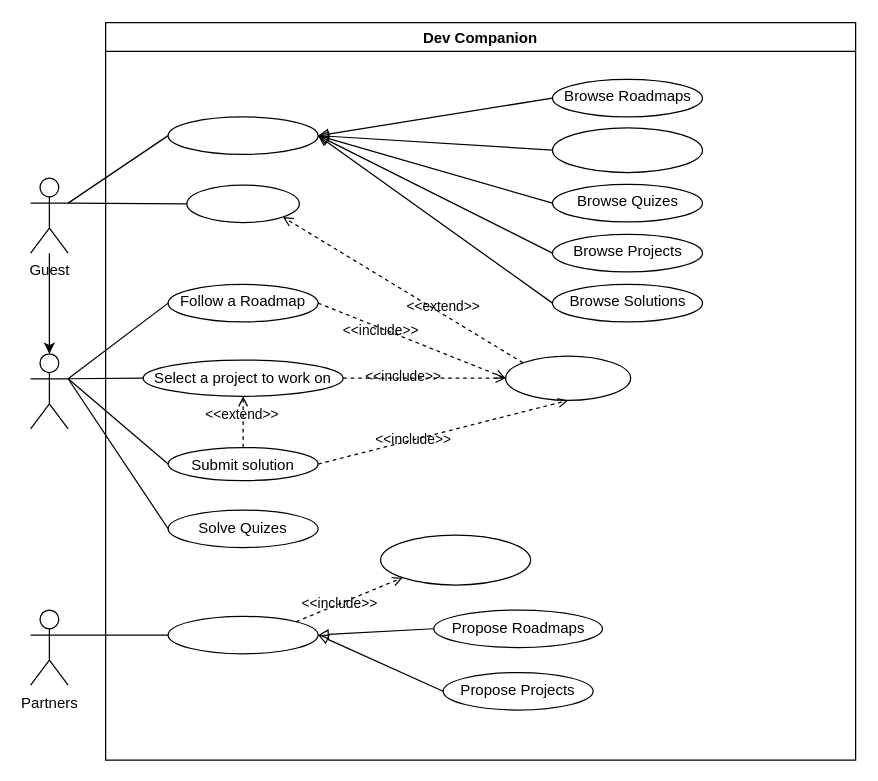
Image size: 878x781. Some labels were removed from this diagram. The centre of each missing label's shape, as x and y in pixels:
"Browse Content" goes at point (242, 135).
"Browse Educational Content" goes at point (626, 149).
"Login" goes at point (567, 377).
"Login to Partners Portal" goes at point (455, 559).
"Propose Content" goes at point (242, 634).
"Register" goes at point (242, 203).
"User" goes at point (48, 390).
